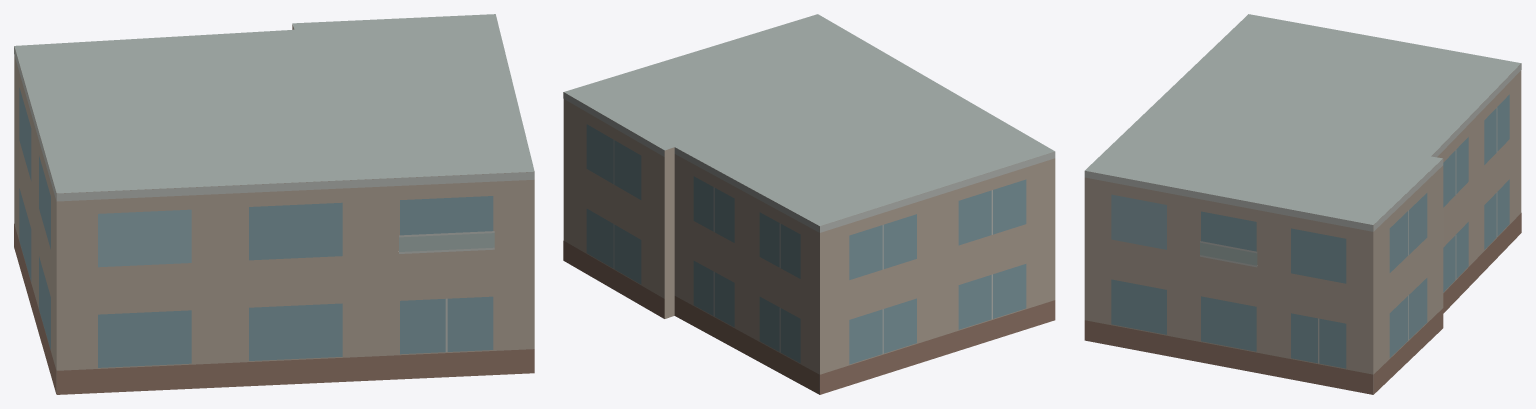
The model's file is survey-upis-32564322.glb.
3 views of the same model, side by side, from view 1: azimuth 30°, elevation 25°; view 2: azimuth 150°, elevation 25°; view 3: azimuth 270°, elevation 25° (orthographic). The views are drawn at different scales.
Visible parts, largest first — view 1: survey-upis-32564322.tmp; view 2: survey-upis-32564322.tmp; view 3: survey-upis-32564322.tmp.
Part boxes in pixels (box(x1,y1,x2,y2)): survey-upis-32564322.tmp: box(14, 14, 534, 394); survey-upis-32564322.tmp: box(563, 14, 1055, 394); survey-upis-32564322.tmp: box(1084, 14, 1521, 394).
Bounding box in the file's own units: 16.27 × 6.1 × 14.23.
